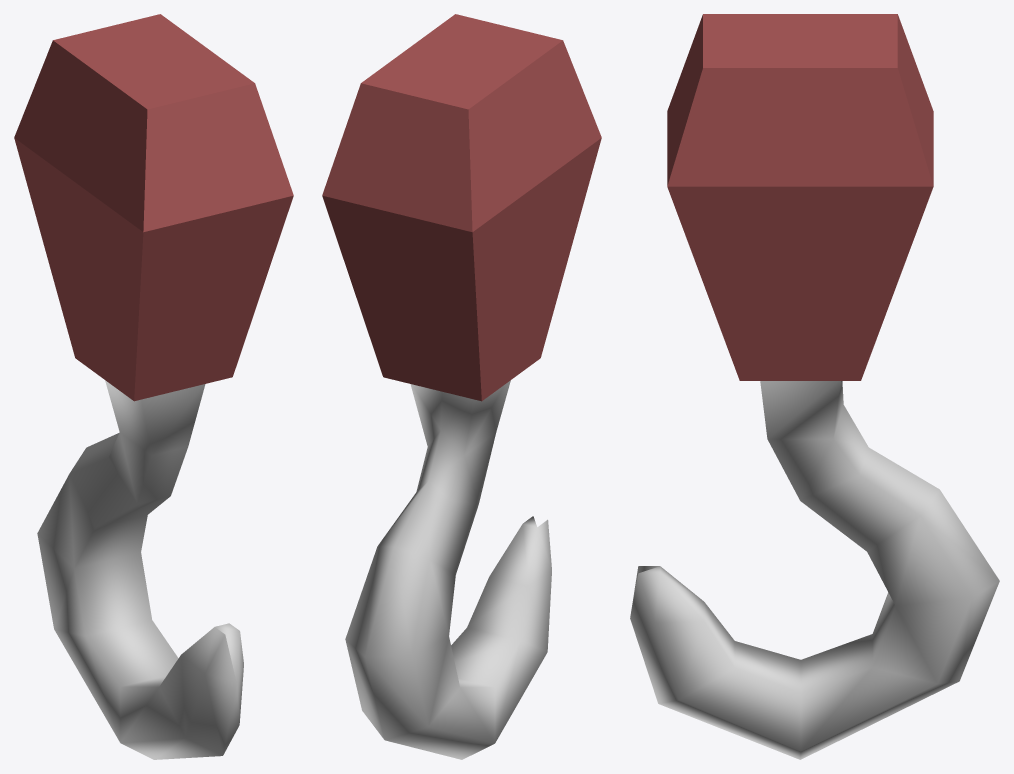
File: CraneHook.fbx
3 views of the same model, side by side, from view 1: azimuth 30°, elevation 25°; view 2: azimuth 150°, elevation 25°; view 3: azimuth 270°, elevation 25° (orthographic). The views are drawn at different scales.
Parts seen in each view (by area): view 1: pCube1; view 2: pCube1; view 3: pCube1.
Boxes of the visible parts, bbox=[...] form: pCube1: bbox=[14, 14, 293, 759]; pCube1: bbox=[322, 14, 601, 759]; pCube1: bbox=[630, 14, 999, 759].
Size of the model in its own units: 0.8059 by 3.57 by 1.67.
